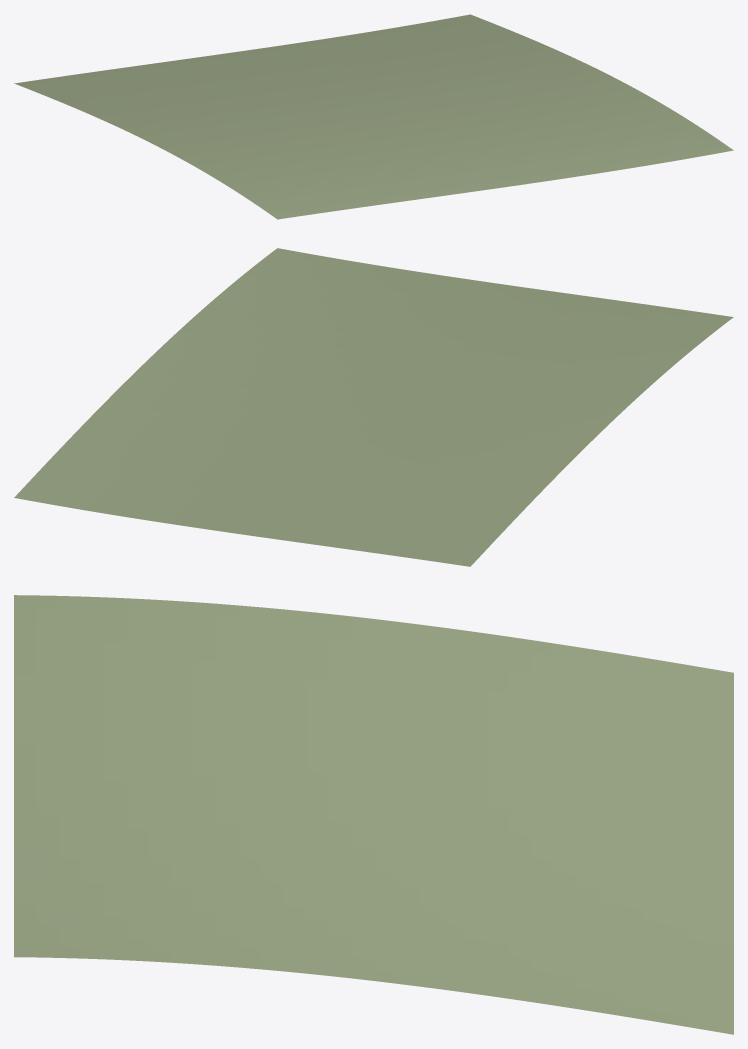
Rendered from valley-3-14.glb.
The picture shows the model from 3 angles, top to bottom: view 1: azimuth 30°, elevation 25°; view 2: azimuth 150°, elevation 25°; view 3: azimuth 270°, elevation 25°; orthographic projection. The views are drawn at different scales.
Parts seen in each view (by area): view 1: valley-3-14; view 2: valley-3-14; view 3: valley-3-14.
Part boxes in pixels (box(x1,y1,x2,y2)): valley-3-14: box(14, 14, 733, 219); valley-3-14: box(14, 248, 733, 566); valley-3-14: box(14, 595, 733, 1034).
Size of the model in its own units: 256 by 53.15 by 256.
